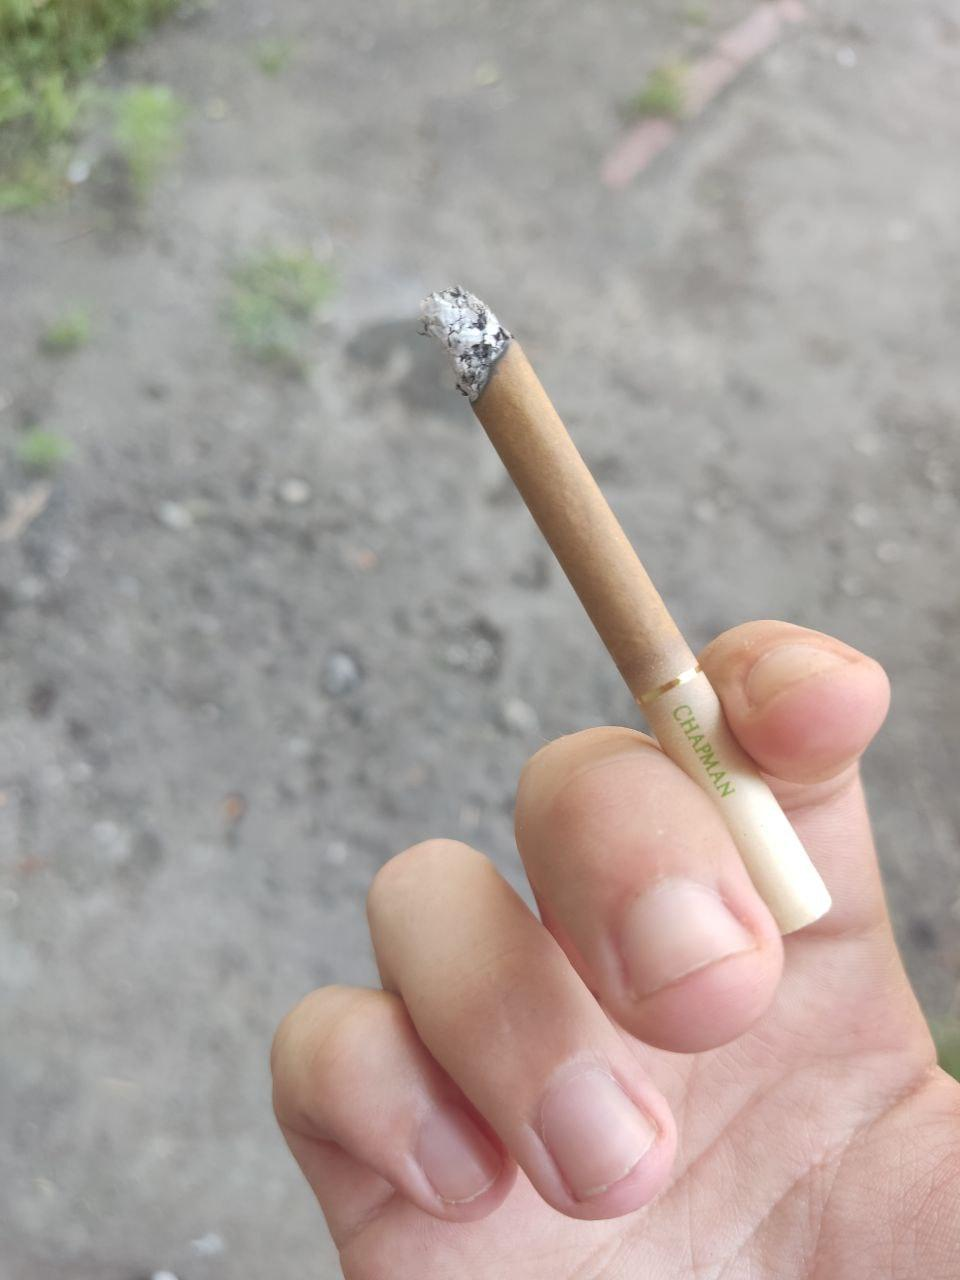cigarette: (423, 290, 830, 932)
